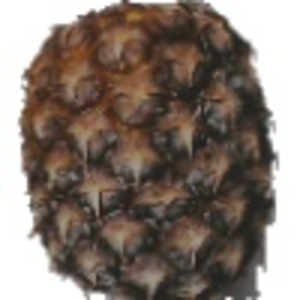abacaxi: (17, 4, 278, 297)
